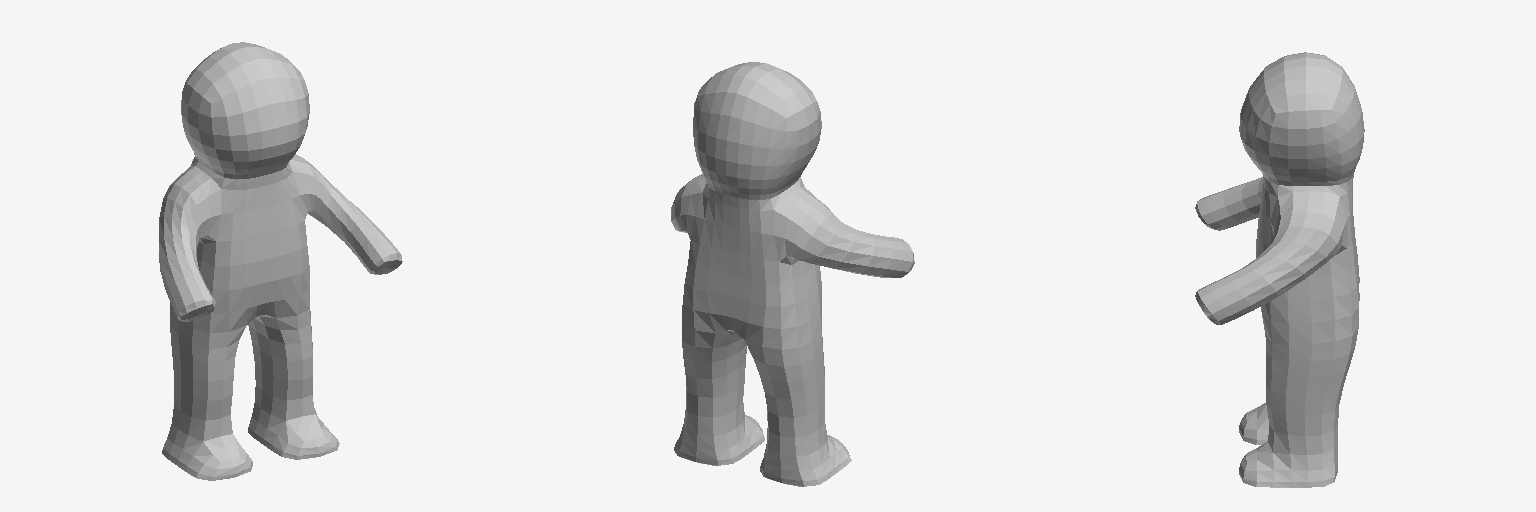
Rendered from peeple.obj.
The picture shows the model from 3 angles: view 1: azimuth 30°, elevation 25°; view 2: azimuth 150°, elevation 25°; view 3: azimuth 270°, elevation 25°; orthographic projection.
Visible parts, largest first — view 1: Cube; view 2: Cube; view 3: Cube.
Boxes of the visible parts, x1=… form: Cube: x1=159, y1=42, x2=402, y2=480; Cube: x1=671, y1=62, x2=914, y2=486; Cube: x1=1195, y1=52, x2=1364, y2=487.
Size of the model in its own units: 1.18 by 2.01 by 0.7765.